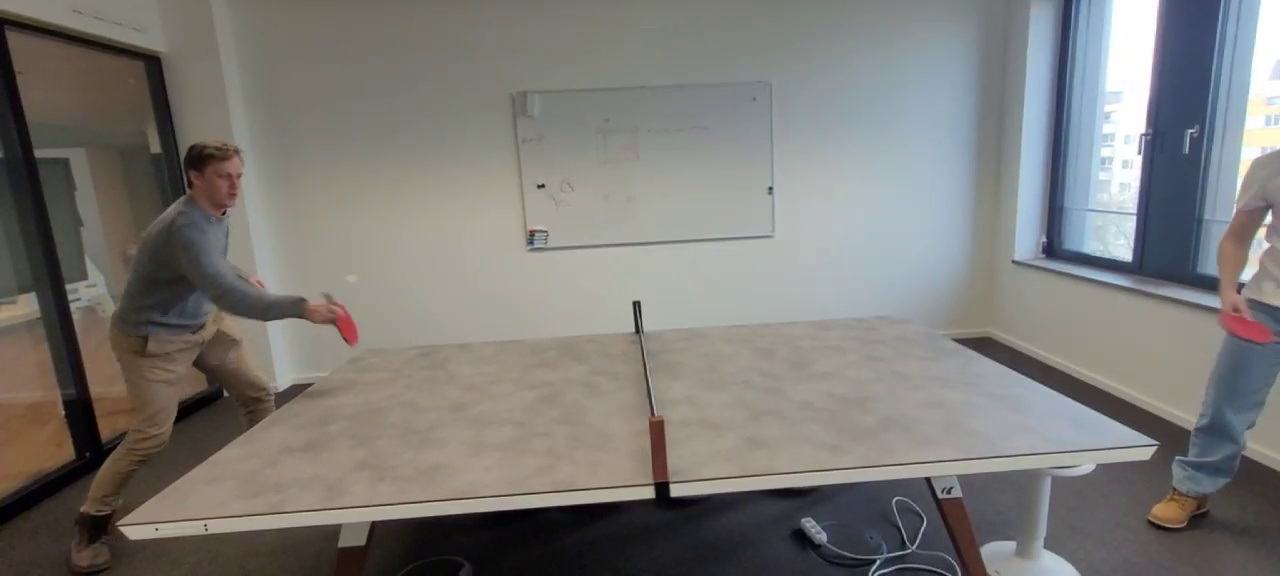1: (1219, 309, 1273, 346), (321, 291, 357, 346)
2: (345, 273, 356, 282)
ttplatte: (116, 313, 1158, 526)
